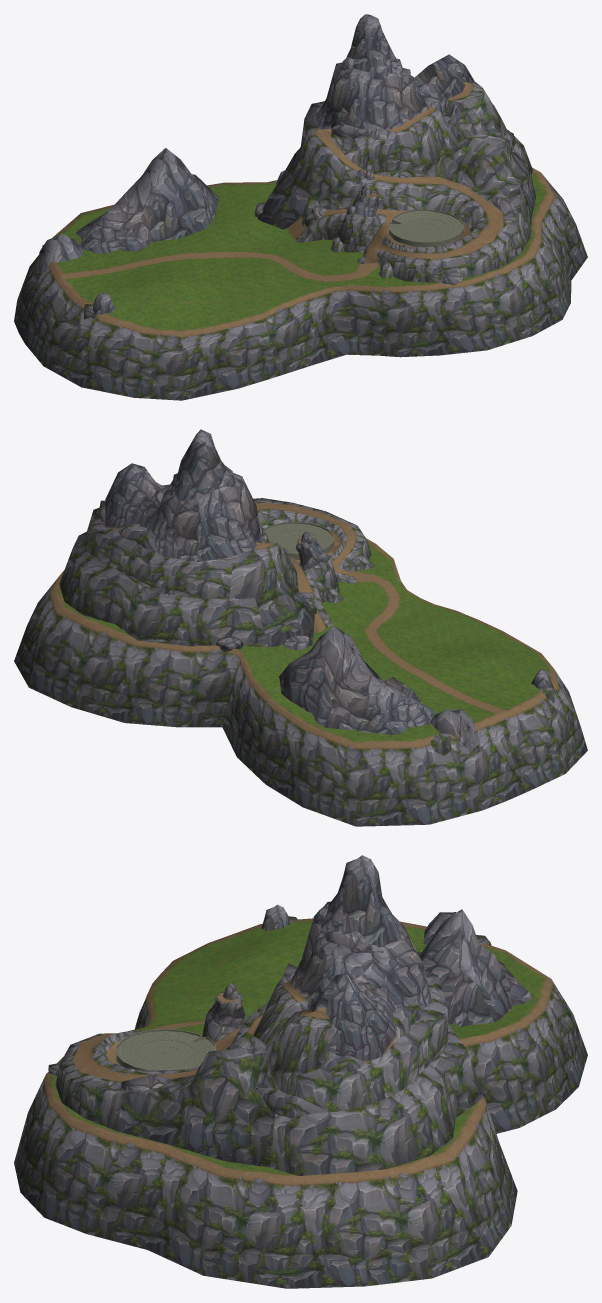
Rendered from OutdoorM_Ground.FBX.
The picture shows the model from 3 angles, top to bottom: view 1: azimuth 30°, elevation 25°; view 2: azimuth 150°, elevation 25°; view 3: azimuth 270°, elevation 25°; orthographic projection. The views are drawn at different scales.
Visible parts, largest first — view 1: OutdoorM_Ground; view 2: OutdoorM_Ground; view 3: OutdoorM_Ground.
Boxes of the visible parts, box(x1,y1,x2,y2) form: OutdoorM_Ground: box(14, 14, 587, 400); OutdoorM_Ground: box(14, 429, 587, 826); OutdoorM_Ground: box(14, 855, 587, 1288).
Size of the model in its own units: 4958 by 2428 by 3600.
